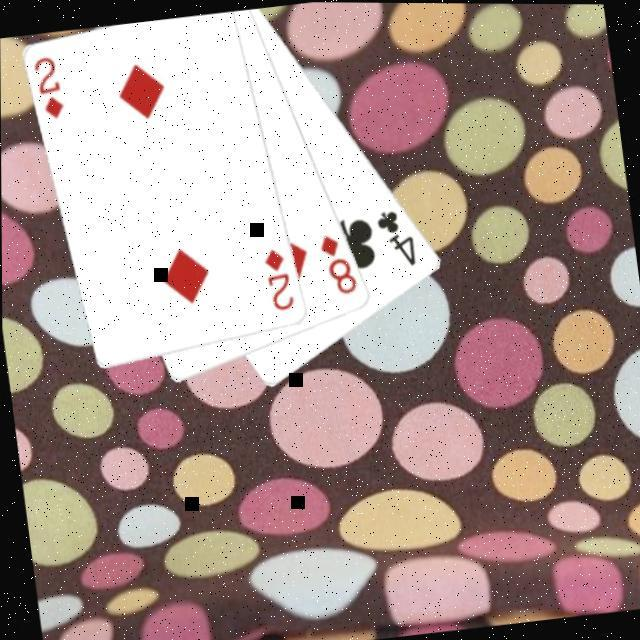2D: (27, 50, 66, 122), (258, 241, 296, 313)
4C: (369, 202, 418, 270)
8D: (313, 226, 359, 298)
